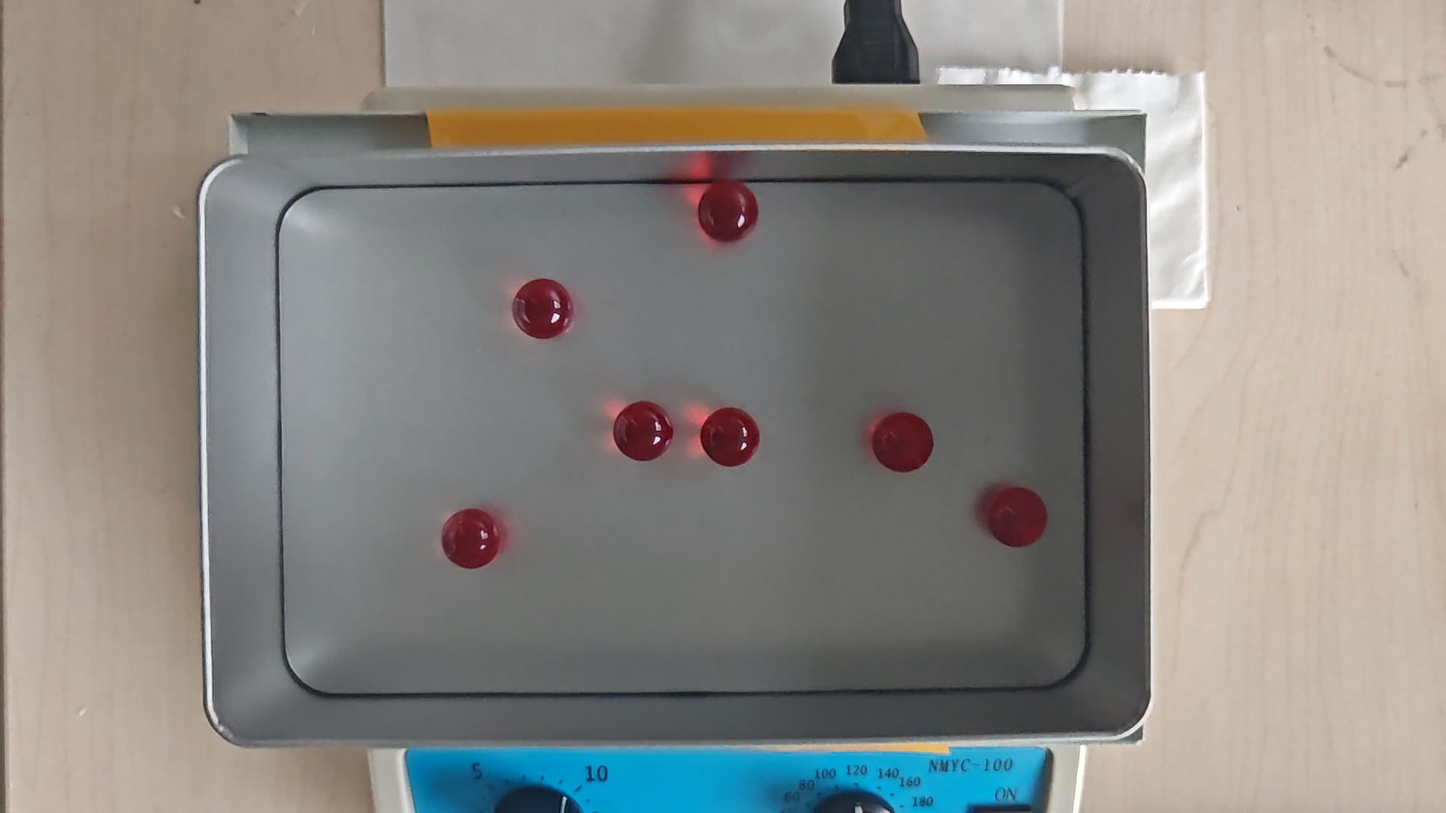ball: (872, 410, 933, 474), (698, 181, 758, 242), (702, 406, 761, 468), (514, 279, 572, 340), (990, 485, 1047, 547), (443, 509, 500, 570), (613, 402, 670, 461)
container: (273, 181, 1089, 696)
